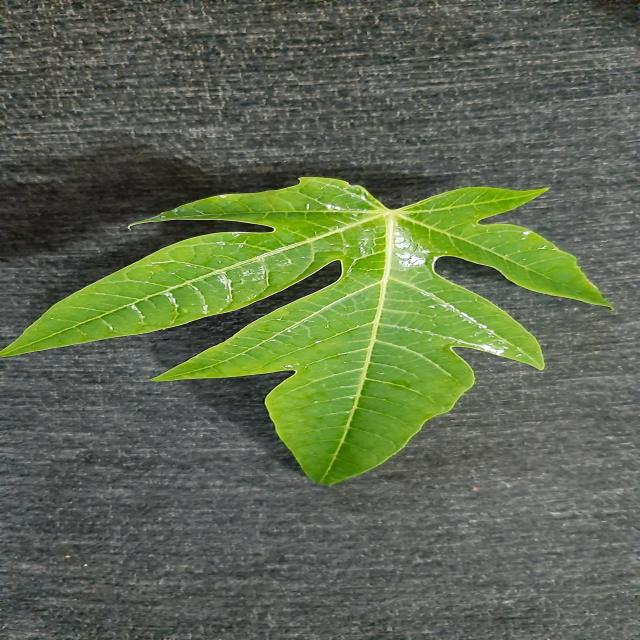papaya: (3, 178, 610, 484)
